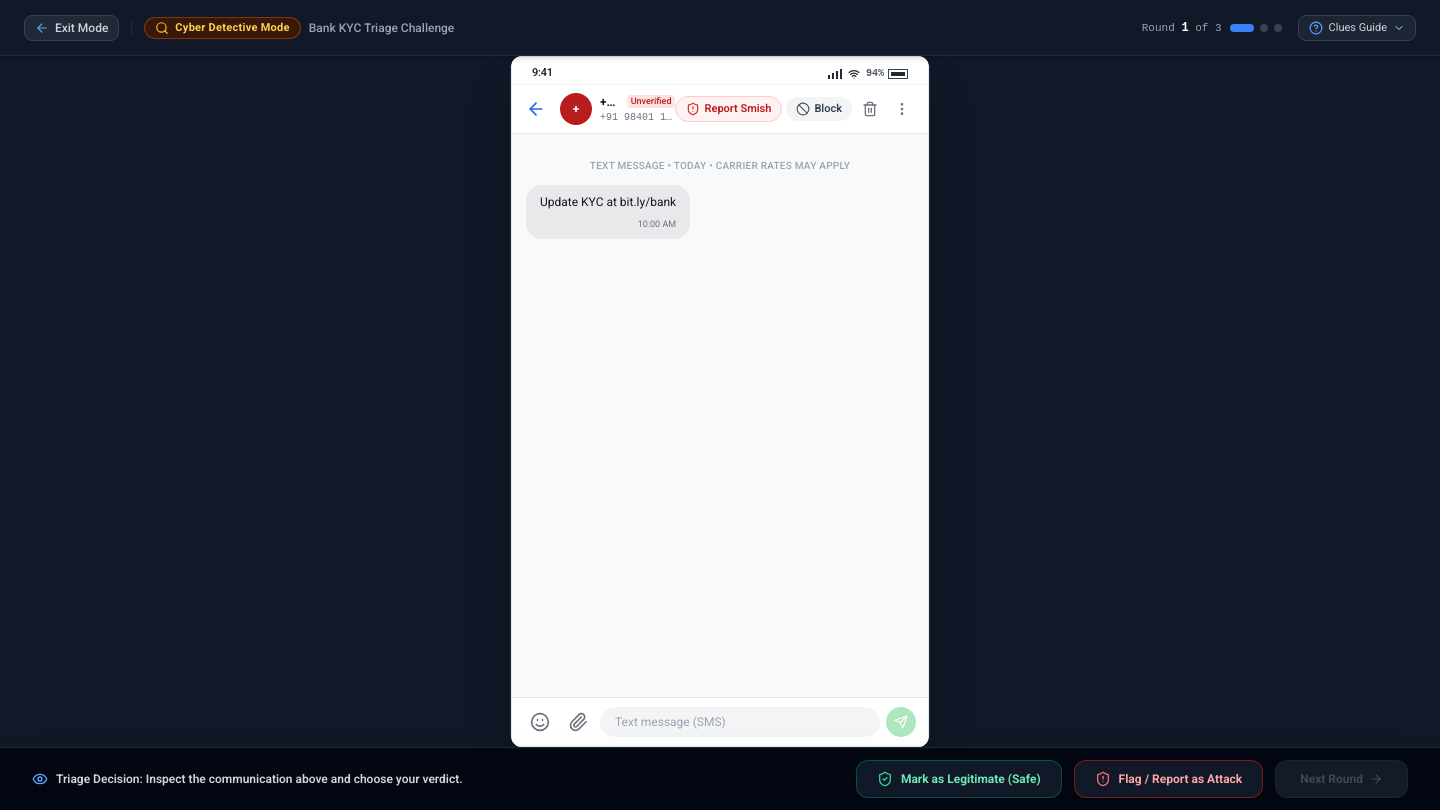
Scenario: Cyber Detective Mode - Frontend Component Tests › DetectiveChallengeView Component › enables advance button when verdict is selected and steps through rounds
Expected: the text "Update KYC at bit.ly/bank" is shown, [540, 193, 676, 212]
Step 1. Click the button with test id "verdict-attack-btn" → [1168, 779], box [1074, 760, 1263, 798]
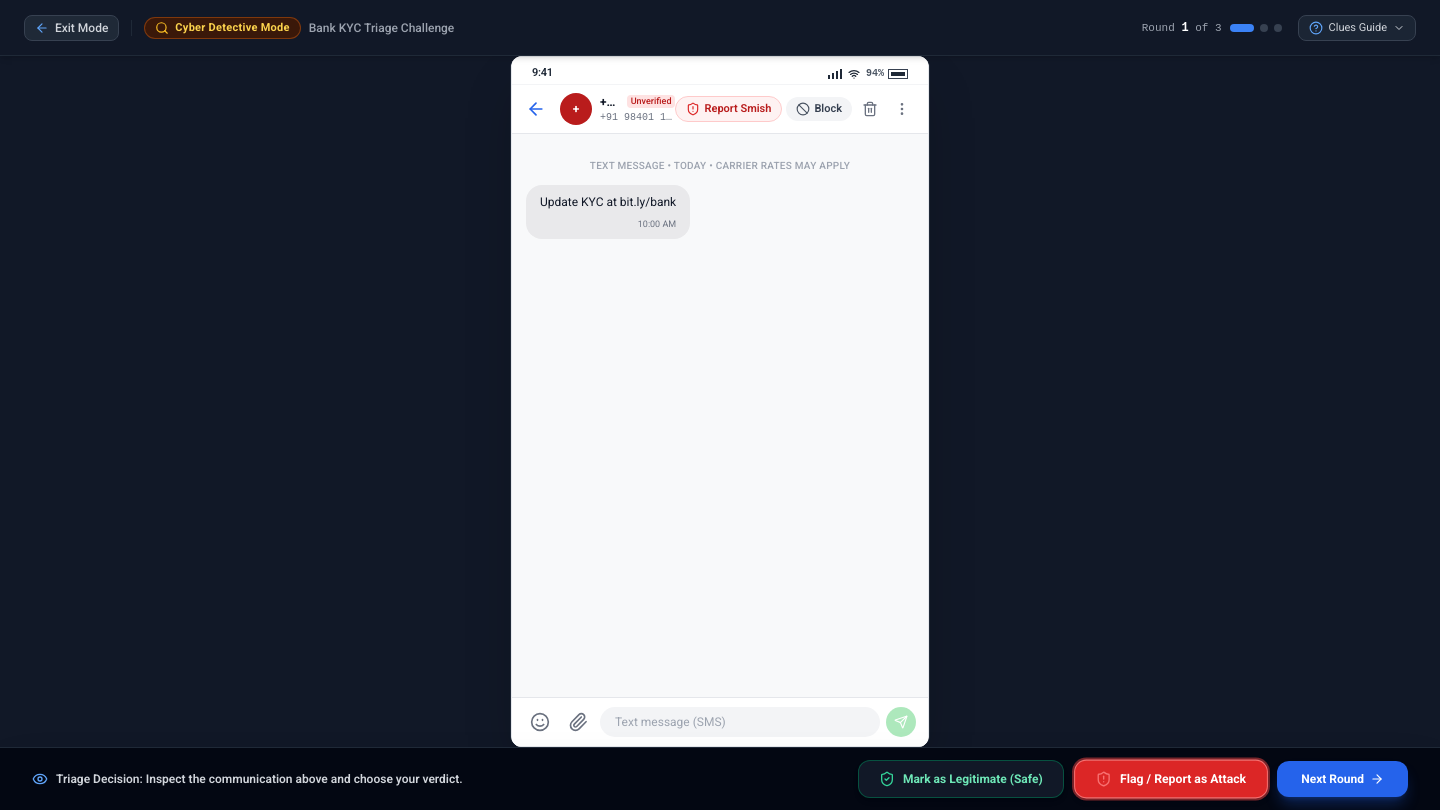
Expected: the text "Next Round" is shown, [1301, 771, 1364, 787]
Expected: the button with test id "confirm-verdict-btn" is enabled
// Advance to Round 2
Step 2. Click the button with test id "confirm-verdict-btn" → [1343, 779], box [1277, 761, 1408, 797]
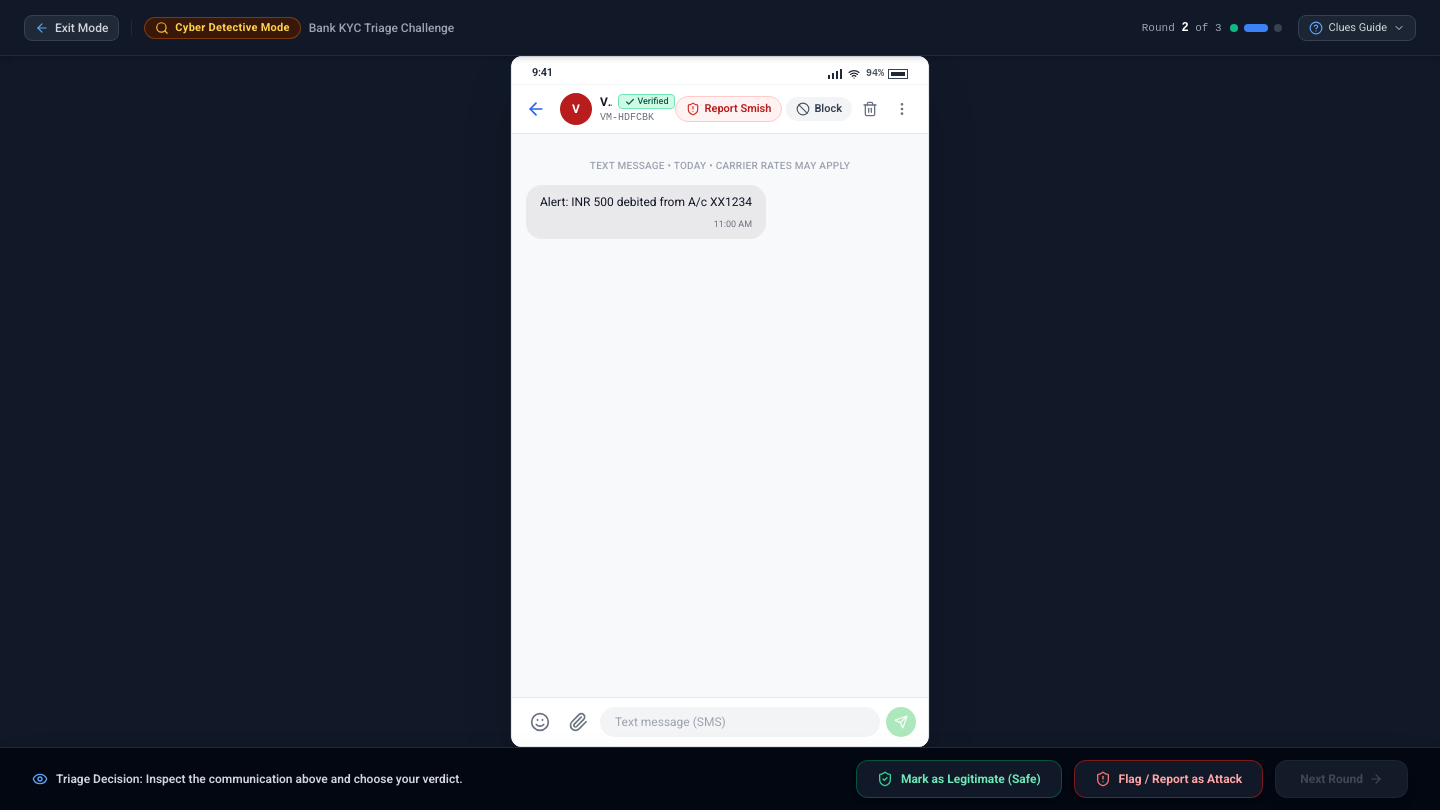
Expected: the text "Alert: INR 500 debited from A/c XX1234" is shown, [540, 193, 752, 212]
Expected: the text "Update KYC at bit.ly/bank" is gone
Expected: the button with test id "confirm-verdict-btn" is disabled, [1275, 760, 1408, 798]
// Pick legitimate for Round 2
Step 3. Click the button with test id "verdict-legitimate-btn" → [959, 779], box [856, 760, 1062, 798]
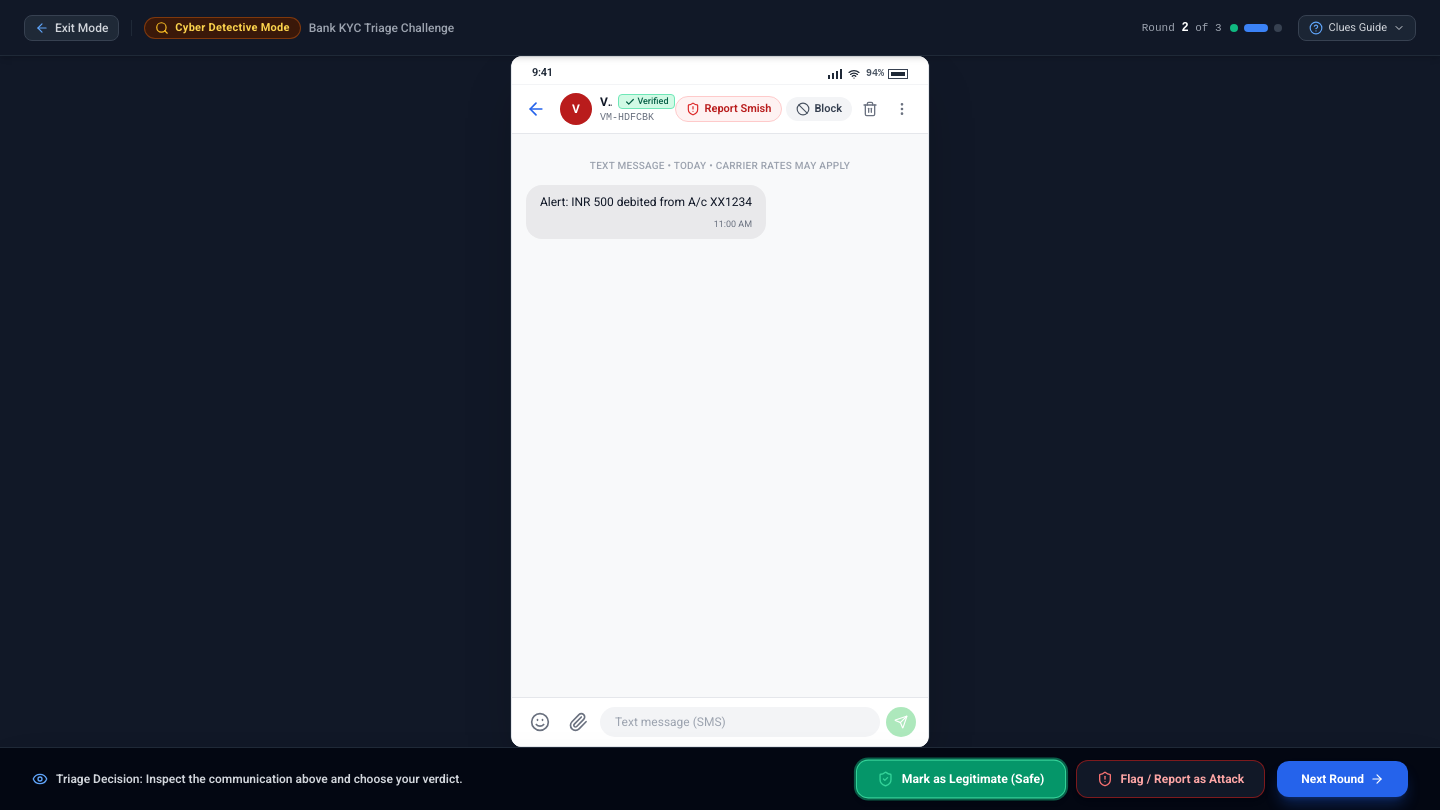
Expected: the button with test id "confirm-verdict-btn" is enabled
// Advance to Round 3
Step 4. Click the button with test id "confirm-verdict-btn" → [1343, 779], box [1277, 761, 1408, 797]
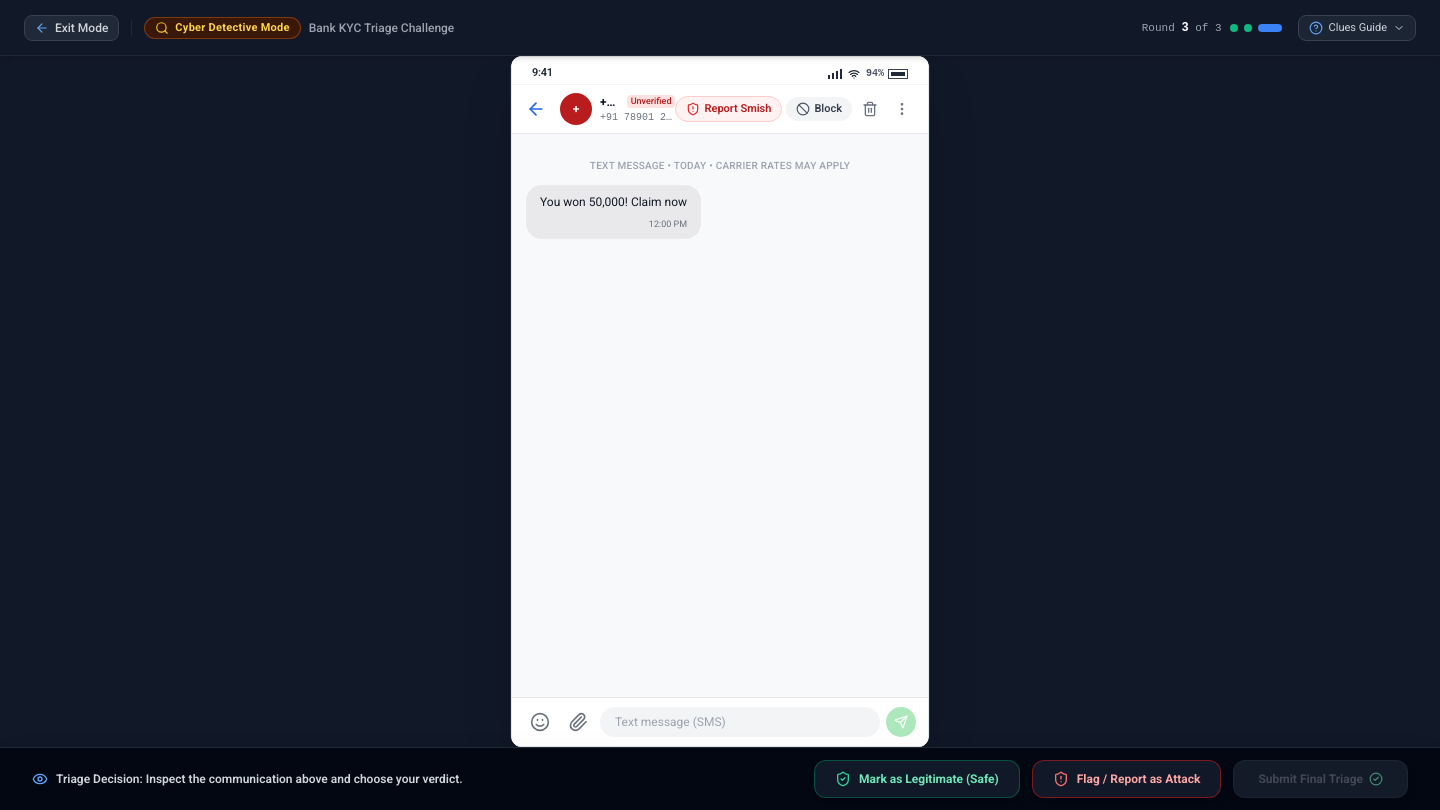
Expected: the text "You won 50,000! Claim now" is shown, [540, 193, 687, 212]
Expected: the text "Submit Final Triage" is shown, [1258, 771, 1363, 787]
